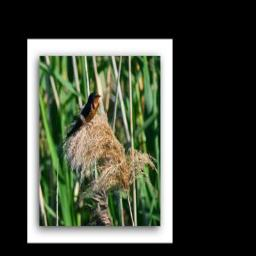Swallow: (62, 90, 103, 143)
